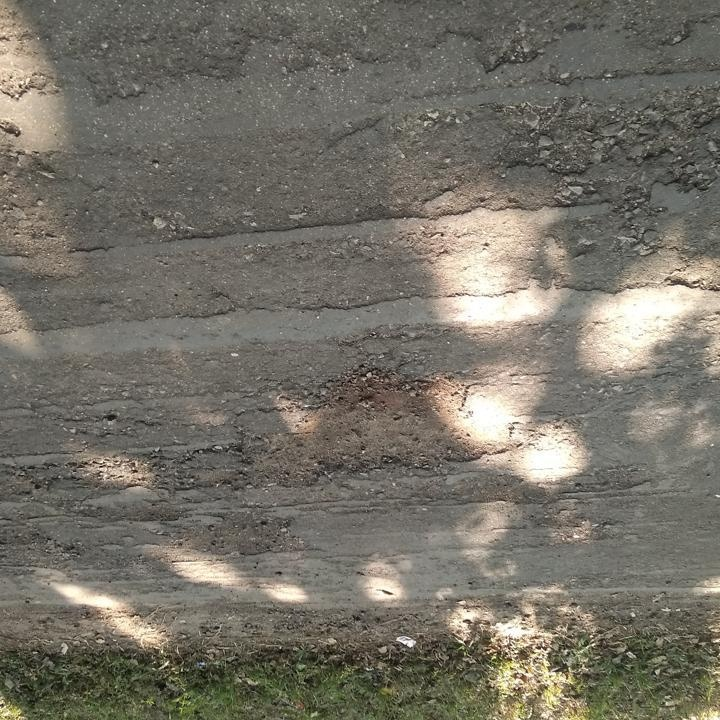pothole: (213, 368, 526, 487)
